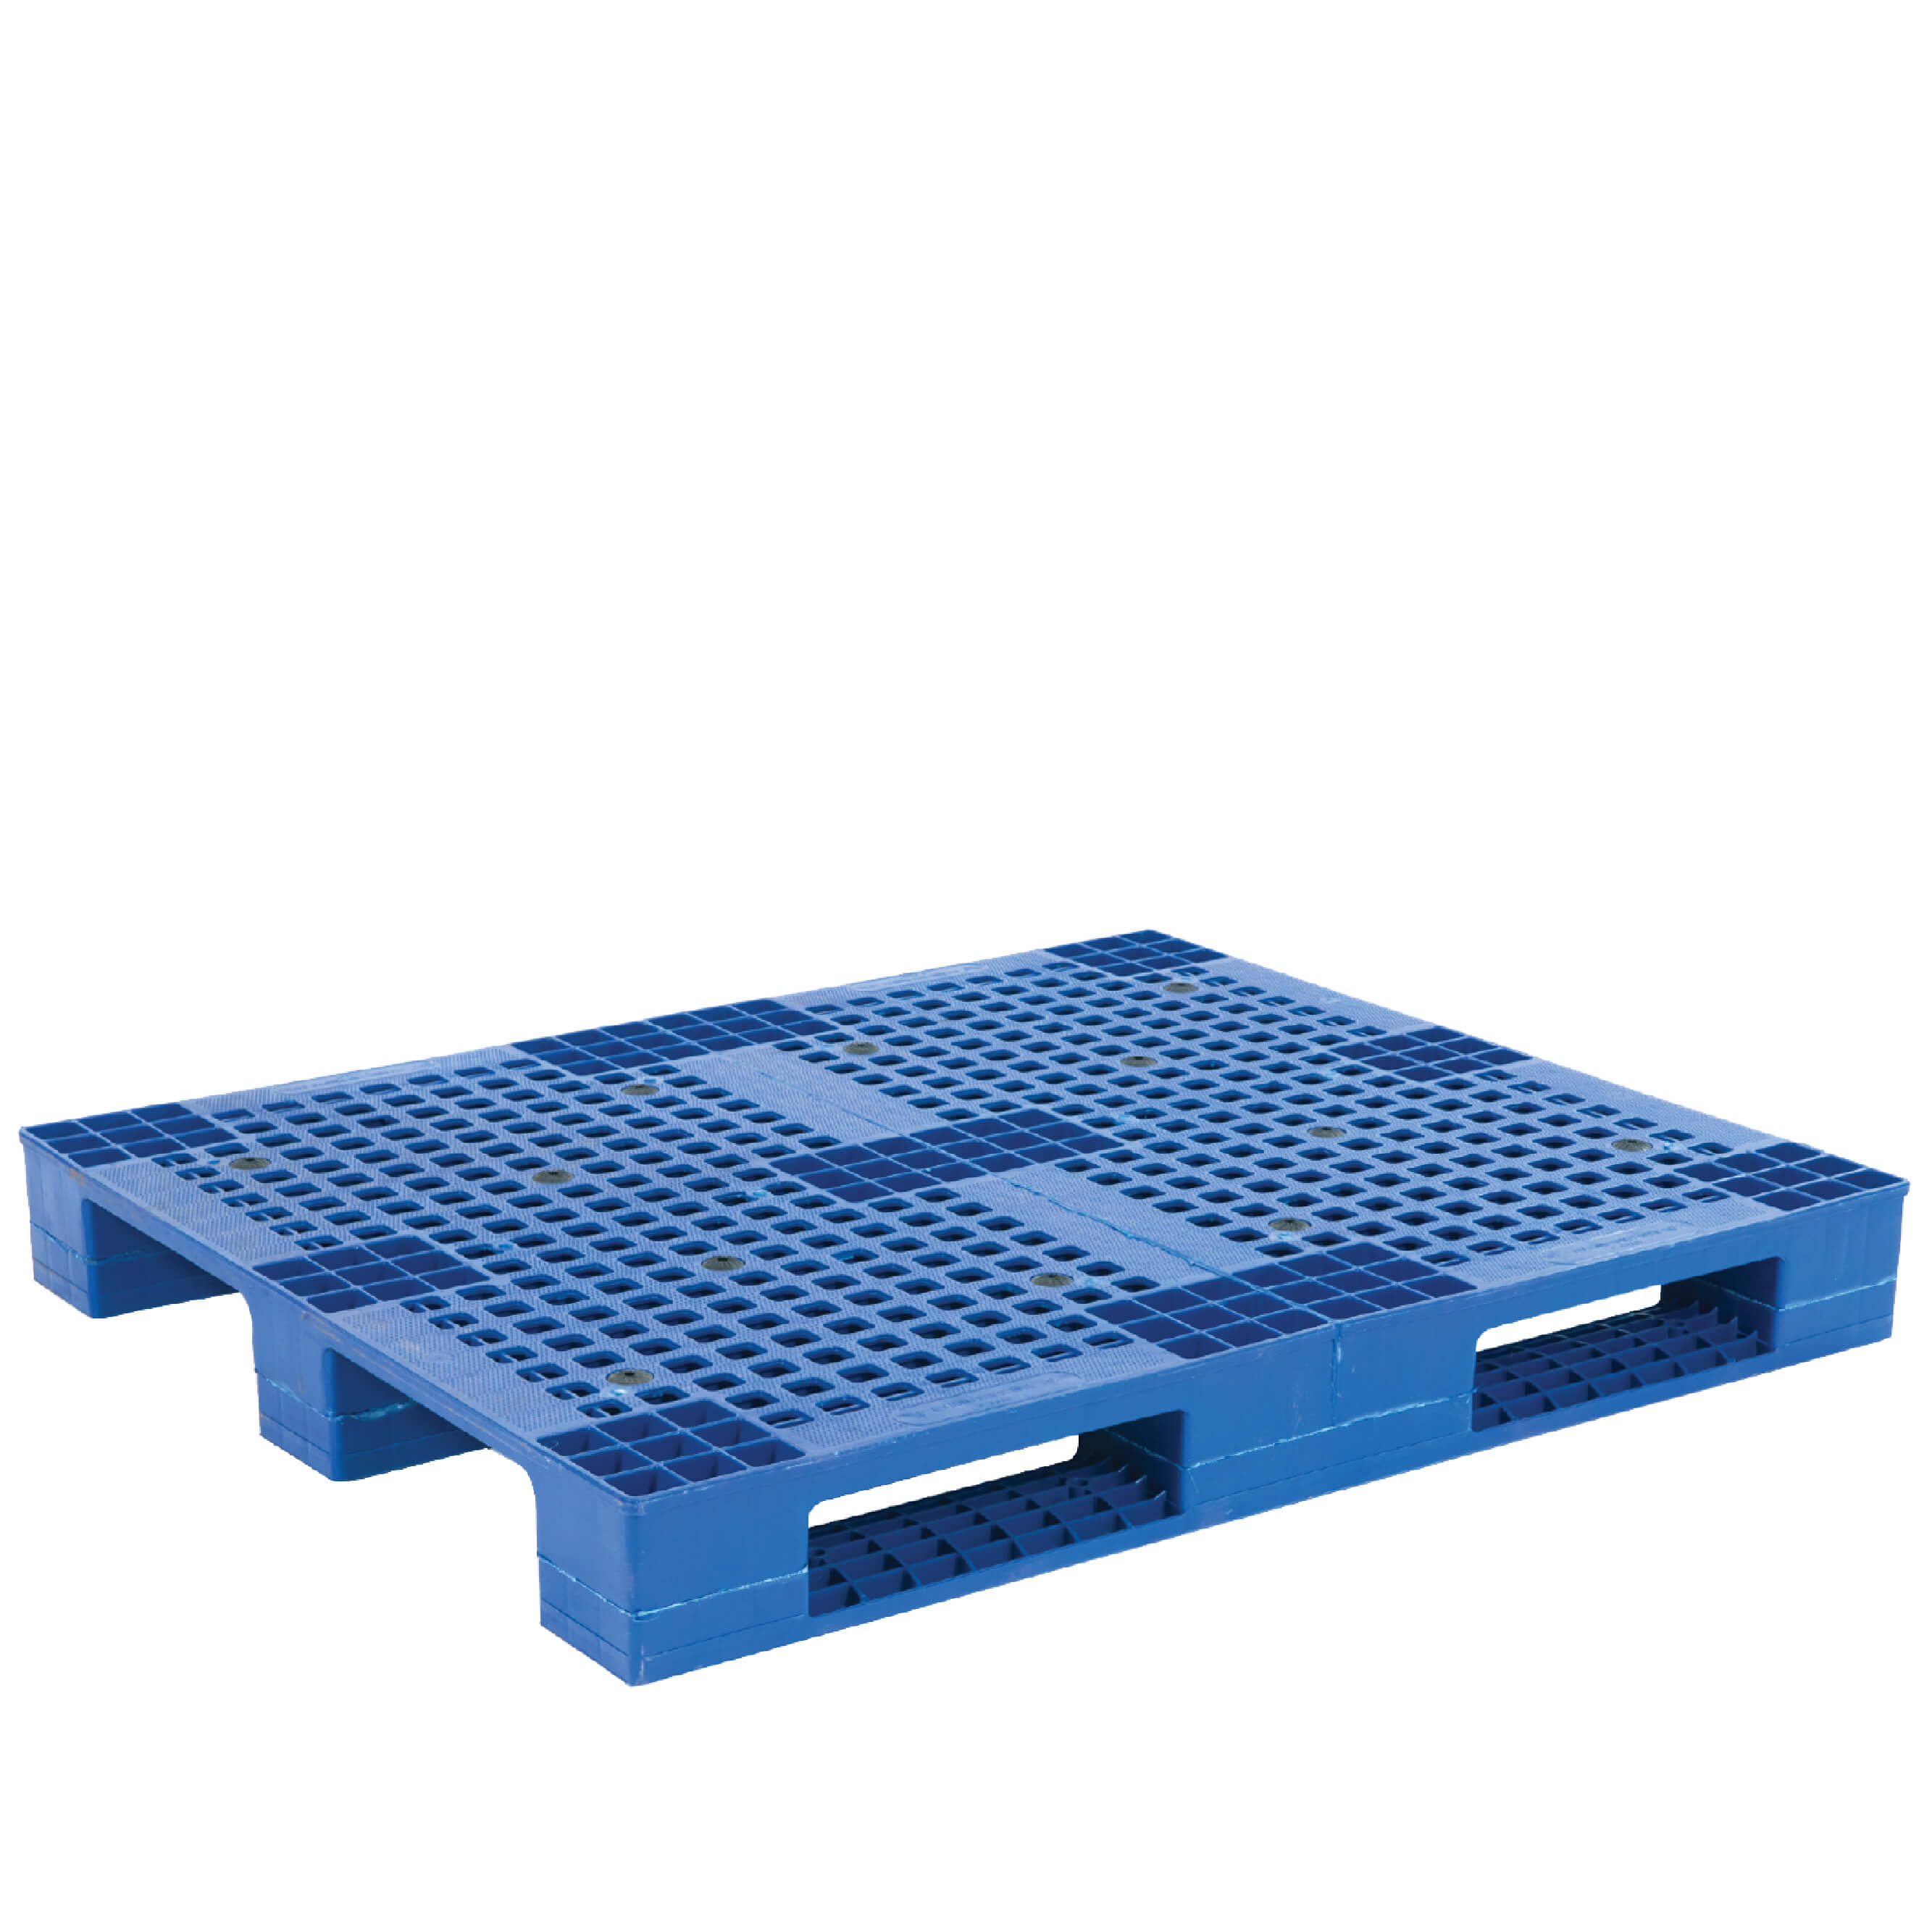pallet: (5, 870, 1907, 1691)
